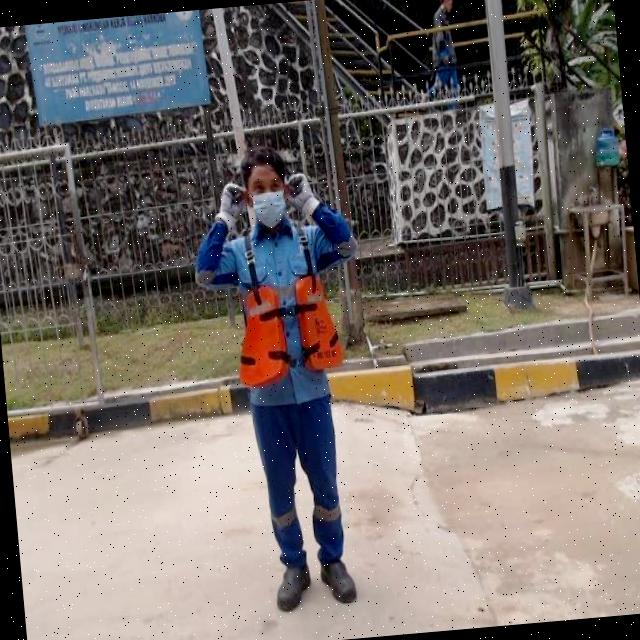vest: (230, 274, 346, 388)
